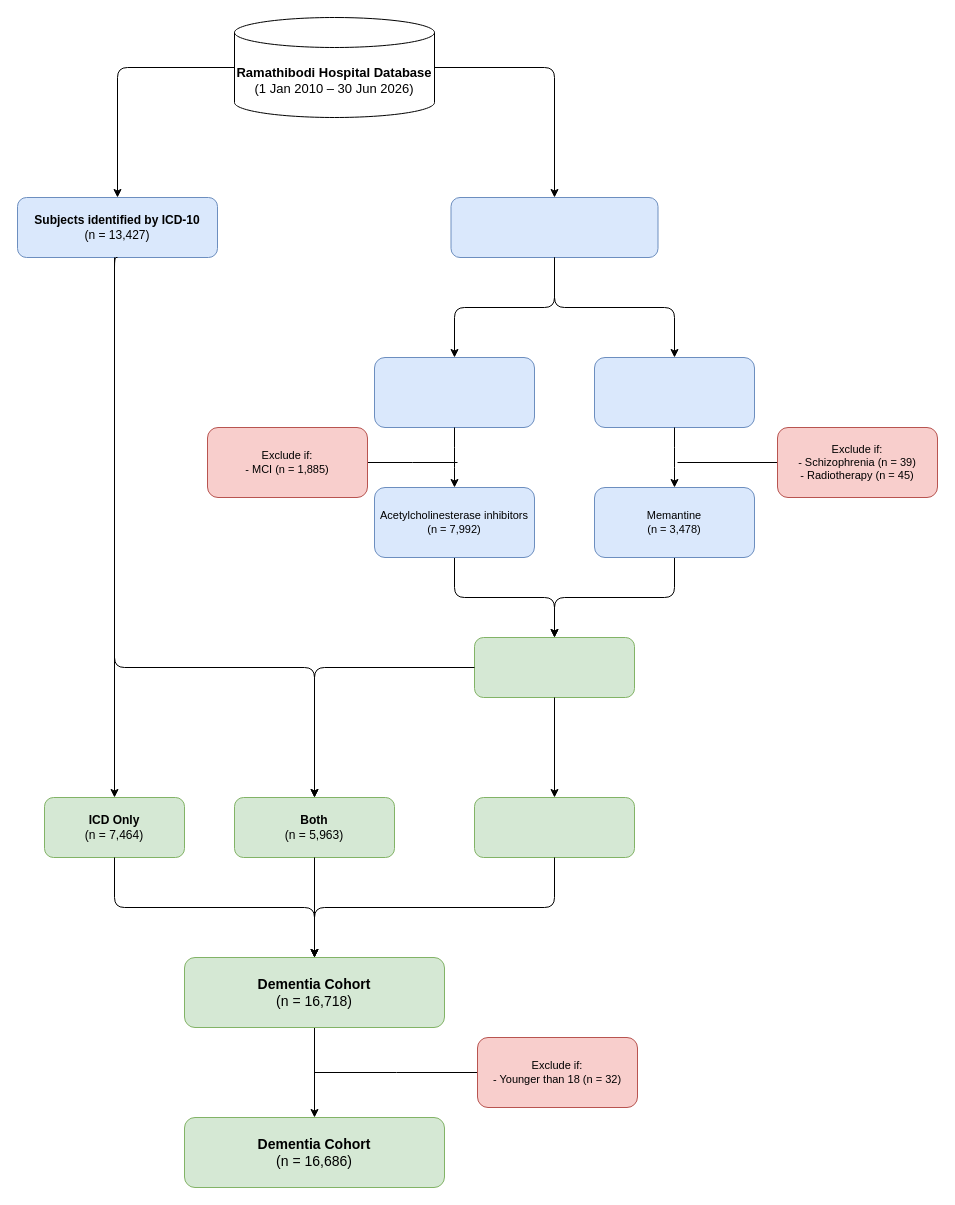
The diagram is 955 pixels wide and 1205 high, and some of its shapes have lost their labels. Here are the shapes that lost their labels. From the top down, the centre of each, then its label:
At (x=554, y=227): "Subjects identified by Medication (n = 10,776)".
At (x=454, y=392): "Acetylcholinesterase inhibitors (n = 9,877)".
At (x=674, y=392): "Memantine (n = 3,562)".
At (x=554, y=667): "Inferred Diagnosis (n = 9,254)".
At (x=554, y=827): "Medication Only (n = 3,291)".
